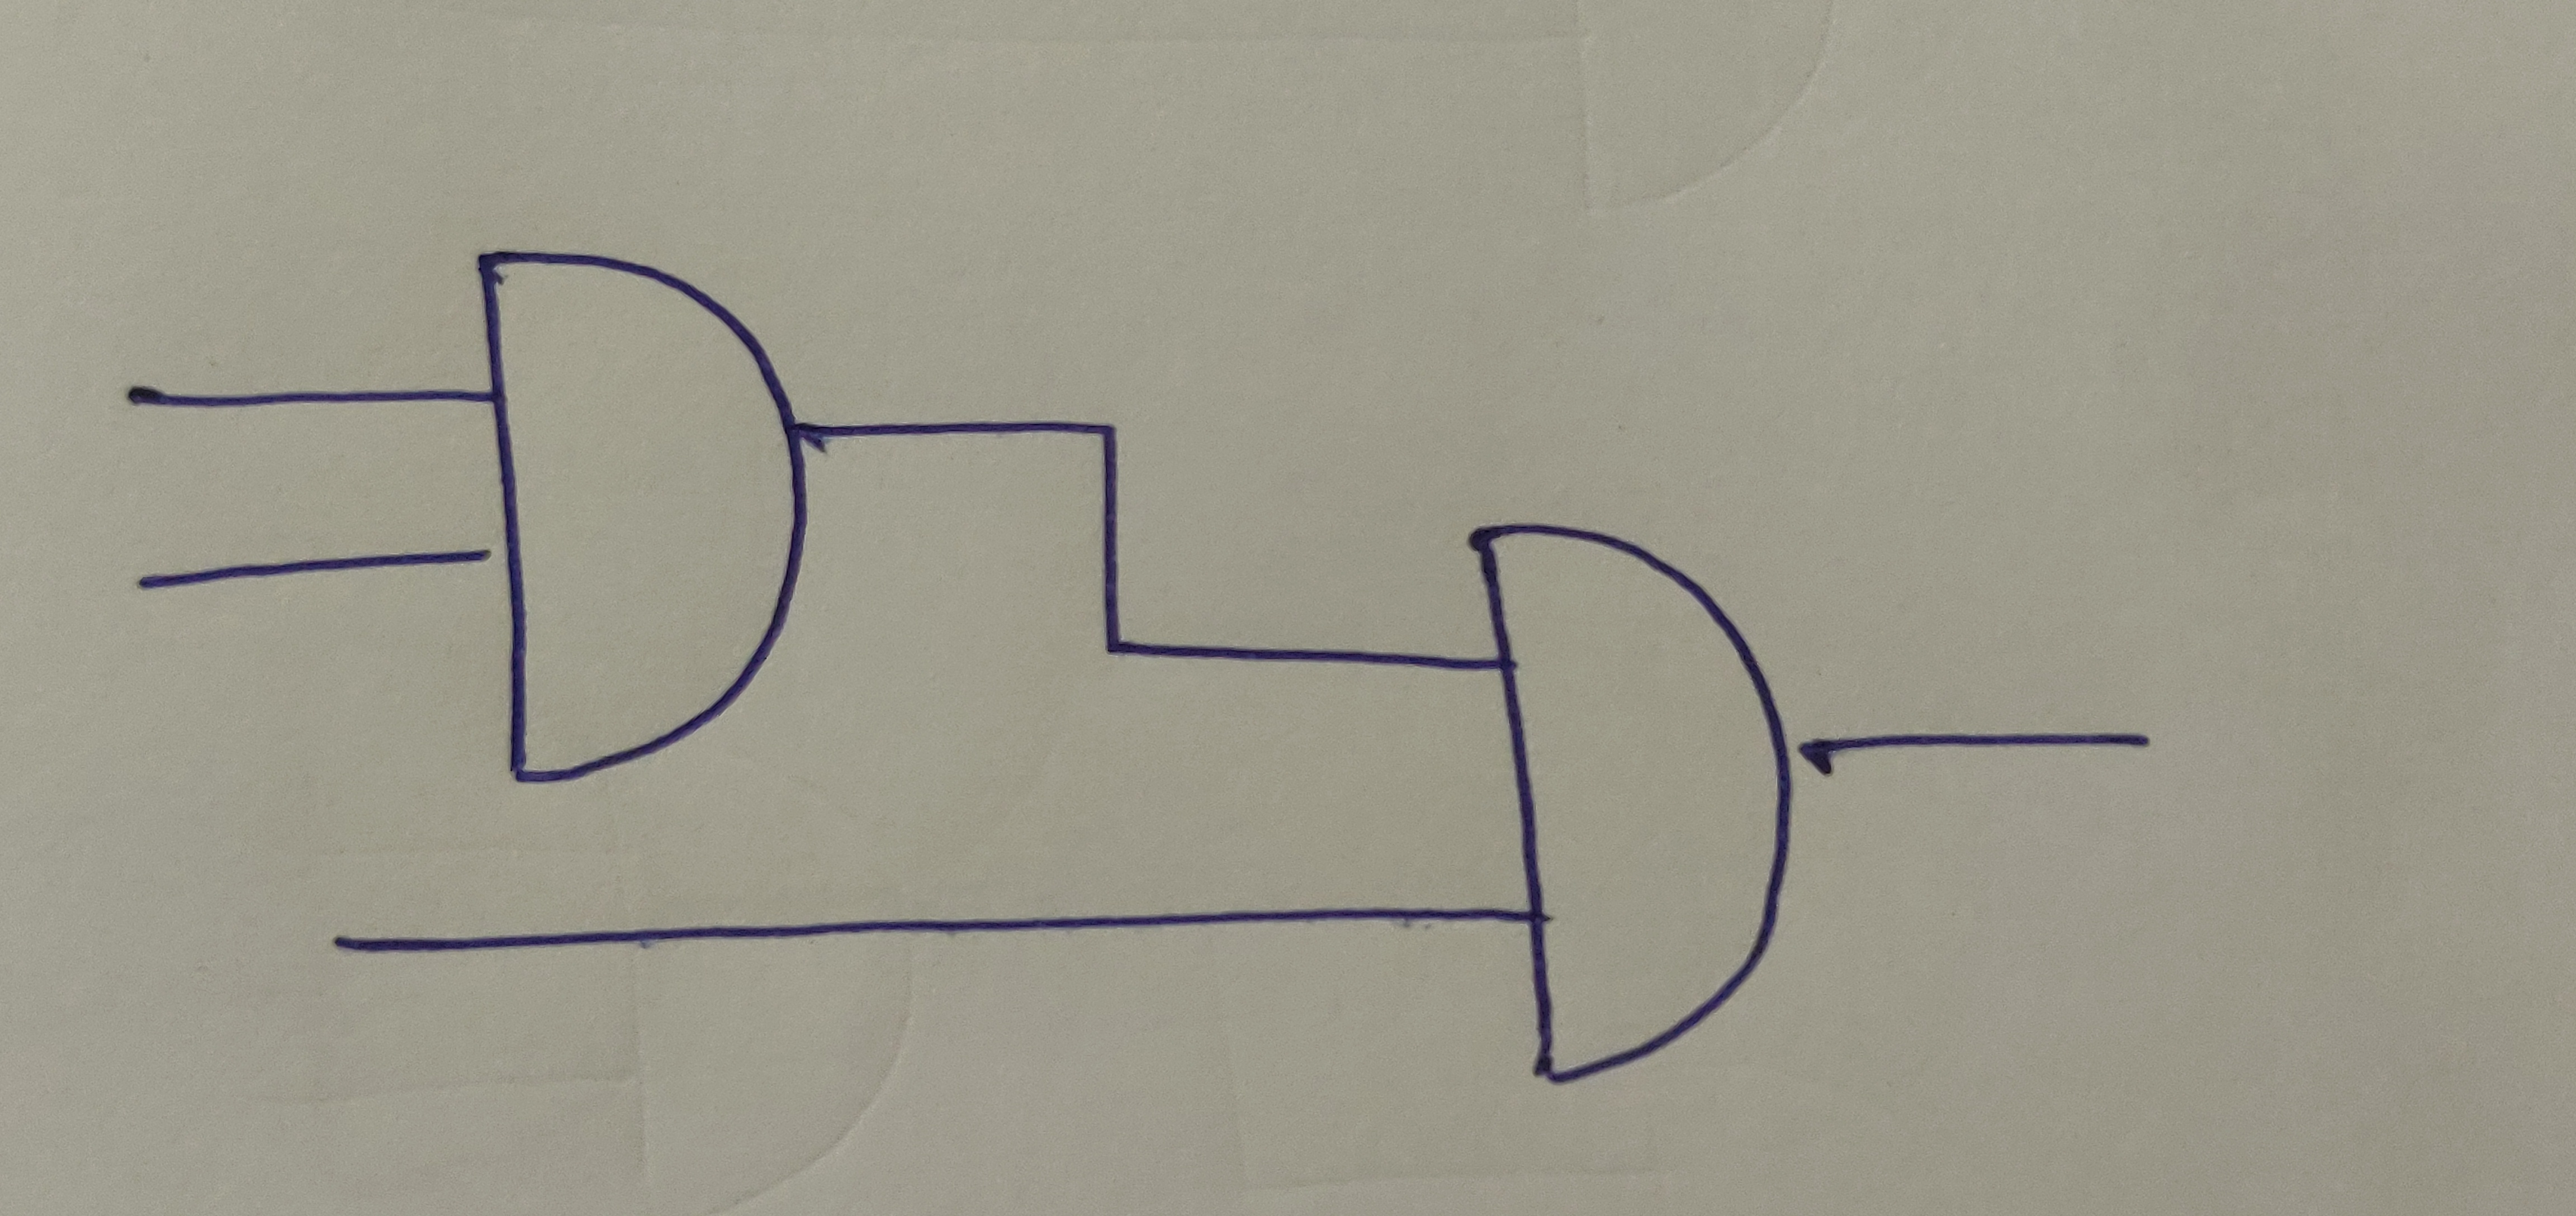and: (1464, 529, 1796, 1088), (473, 250, 810, 784)
